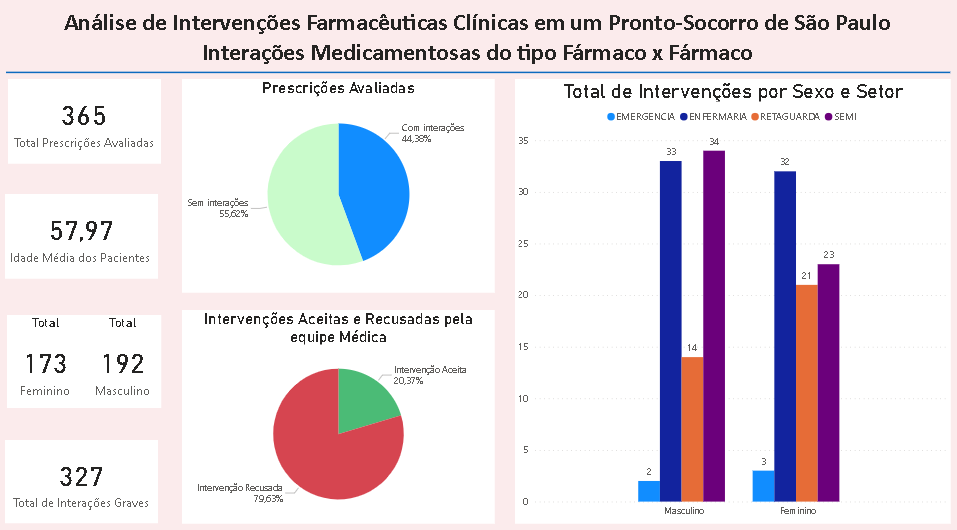

The dashboard page shown, as its layout file describes it:
{"tool":"powerbi","page":{"name":"Página 1","canvas":[1280,720],"ordinal":0},"visuals":[{"type":"textbox","box":[9.6,15.1,1259.4,90.7],"z":0},{"type":"shape","box":[11,88,1259.4,35.7],"z":1},{"type":"card","fields":{"Values":["CountNonNull(Março a Maio 2018.PACIENTE)"]},"box":[13.2,114.3,203.7,112.6],"z":2},{"type":"card","fields":{"Values":["Avg(Março a Maio 2018.IDADE)"]},"box":[9.9,268.3,203.7,112.6],"z":4},{"type":"card","fields":{"Values":["Sum(Março a Maio 2018.INTERAÇÕES GRAVES)"]},"box":[9.9,596.1,203.7,110.9],"z":7},{"type":"pieChart","title":"Prescrições Avaliadas","fields":{"Y":["Março a Maio 2018.Interaction","Março a Maio 2018.NoInteraction"]},"box":[245.1,114.3,417.3,284.8],"z":10},{"type":"card","title":"Total","fields":{"Values":["Março a Maio 2018.TotalFeminino"]},"box":[11.6,428.9,102.7,124.2],"z":11},{"type":"card","title":"Total","fields":{"Values":["Março a Maio 2018.TotalMasculino"]},"box":[114.3,428.9,102.7,124.2],"z":12},{"type":"pieChart","title":"Intervenções Aceitas e Recusadas pela equipe Médica","fields":{"Y":["Março a Maio 2018.Intervencao_Aceita","Março a Maio 2018.Intervencao_Recusada"]},"box":[245.1,422.3,417.3,284.8],"z":13},{"type":"clusteredColumnChart","title":"Total de Intervenções por Sexo e Setor","fields":{"Category":["Março a Maio 2018.Sexo"],"Y":["Março a Maio 2018.Total_Intervencao"],"Series":["Março a Maio 2018.Setor"]},"box":[688.8,114.3,581.2,592.8],"z":14}]}

Visuals, with their boxes in screenshot pixels (x1, y1, x2, y2), scaled from the page's 1280x720 canvas onto the 957x530 screenshot:
textbox: bbox(7, 11, 949, 78)
shape: bbox(8, 65, 950, 91)
card - CountNonNull(Março a Maio 2018.PACIENTE): bbox(10, 84, 162, 167)
card - Avg(Março a Maio 2018.IDADE): bbox(7, 197, 160, 280)
card - Sum(Março a Maio 2018.INTERAÇÕES GRAVES): bbox(7, 439, 160, 520)
"Prescrições Avaliadas" pieChart: bbox(183, 84, 495, 294)
"Total" card: bbox(9, 316, 85, 407)
"Total" card: bbox(85, 316, 162, 407)
"Intervenções Aceitas e Recusadas pela equipe Médica" pieChart: bbox(183, 311, 495, 521)
"Total de Intervenções por Sexo e Setor" clusteredColumnChart: bbox(515, 84, 950, 521)
